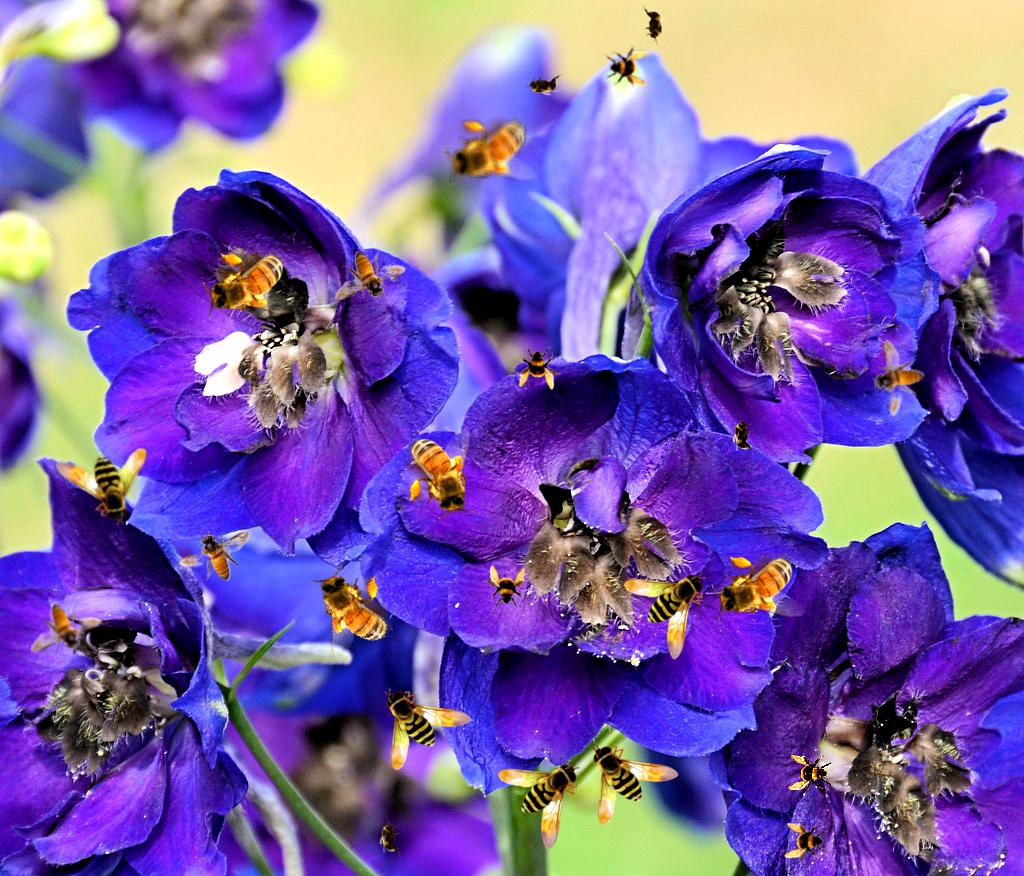Bee: (42, 417, 156, 529), (308, 557, 398, 666), (384, 688, 472, 770), (624, 572, 706, 660), (591, 743, 679, 825), (498, 762, 580, 850), (445, 117, 538, 185), (203, 250, 296, 318), (712, 553, 805, 621), (406, 426, 474, 519), (862, 339, 932, 422), (179, 531, 250, 581), (31, 603, 102, 653), (335, 251, 406, 301), (784, 821, 828, 865), (605, 44, 649, 88), (788, 753, 832, 797), (483, 565, 527, 609), (517, 346, 561, 390), (732, 415, 754, 455), (379, 817, 401, 857), (643, 5, 665, 45), (523, 74, 563, 96)
